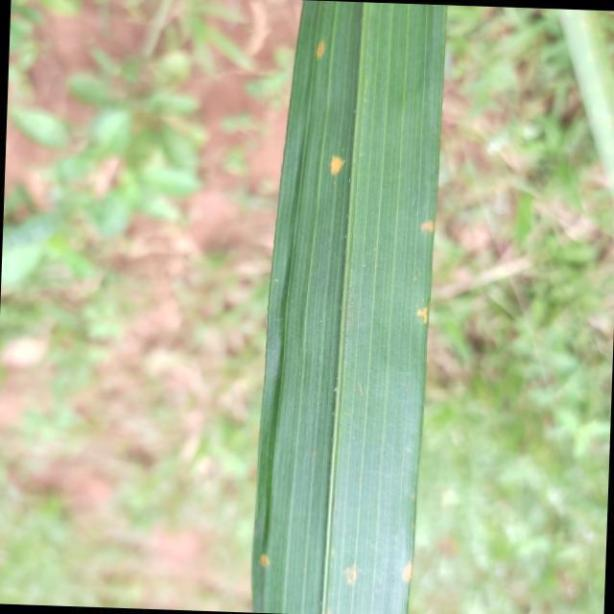Kalium: (249, 0, 451, 614)
